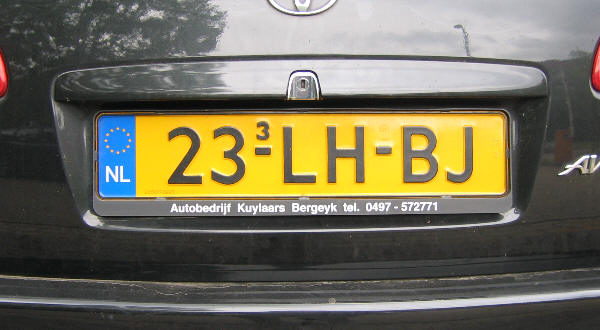license_plate: (96, 110, 509, 201)
